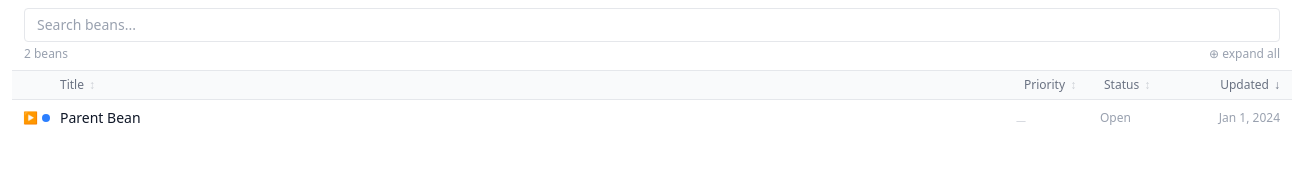
Scenario: BeanList › expandable children: bean with children shows chevron, click expands
Expected: the text "Child Bean" is not shown
# Click the chevron span to expand
Click the text "▶".
click(30, 118)  # box x1=22 y1=112 x2=38 y2=124
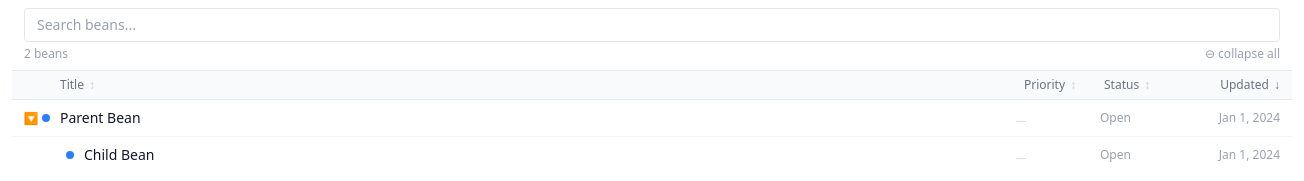
Expected: the text "Child Bean" is shown, x1=84 y1=145 x2=154 y2=164
